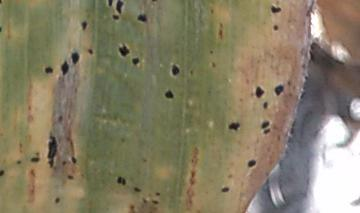tarspot: (44, 131, 59, 170), (168, 59, 182, 81), (225, 118, 244, 134), (114, 172, 129, 190), (134, 12, 152, 26), (268, 1, 283, 17), (59, 58, 71, 77), (70, 47, 82, 66), (272, 82, 286, 98), (118, 41, 131, 58), (41, 62, 55, 77), (75, 18, 91, 31), (254, 83, 265, 101), (163, 87, 176, 101), (246, 156, 258, 171), (115, 1, 126, 17), (27, 154, 39, 167), (259, 118, 271, 131), (63, 173, 78, 183), (56, 112, 66, 127), (130, 55, 141, 68), (217, 184, 232, 193), (131, 184, 143, 195), (12, 158, 25, 168), (258, 100, 271, 110), (70, 153, 79, 166), (151, 197, 162, 207), (51, 195, 63, 204), (272, 22, 281, 34), (261, 130, 274, 138), (153, 189, 164, 197), (111, 14, 122, 22), (86, 46, 94, 56), (1, 166, 7, 178), (208, 47, 216, 56), (107, 1, 114, 9)
